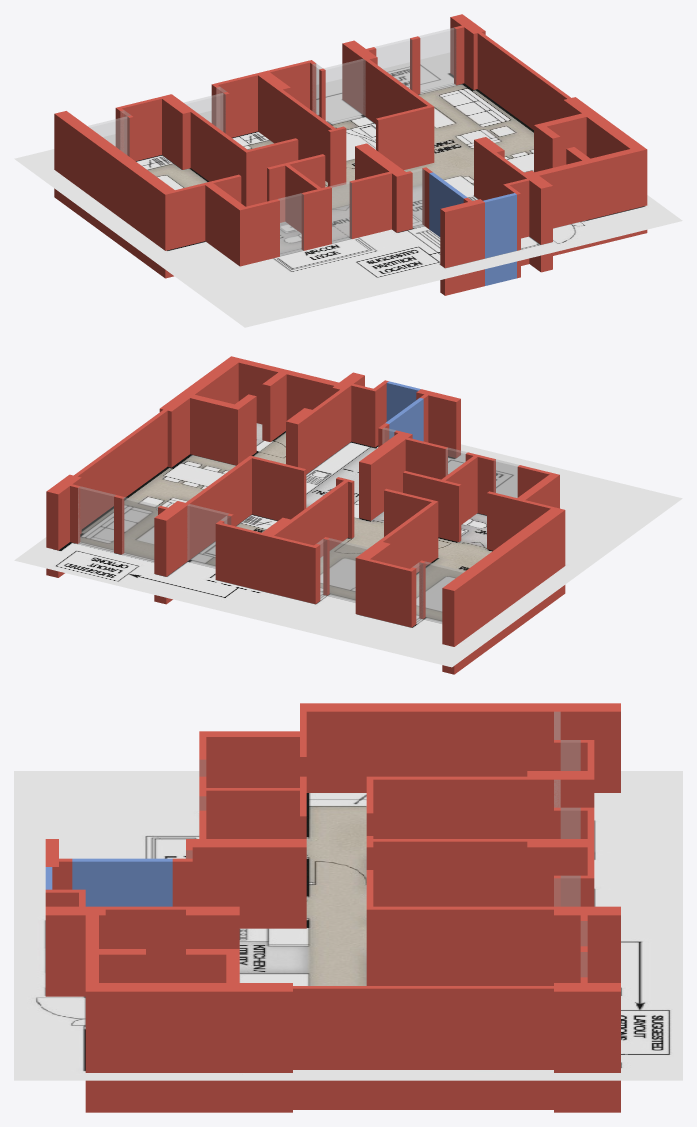
File: buildings.glb
3 renders of one model, top to bottom at view 1: azimuth 30°, elevation 25°; view 2: azimuth 150°, elevation 25°; view 3: azimuth 270°, elevation 25°, orthographic. The views are drawn at different scales.
Parts seen in each view (by area): view 1: walls, ref-4room, windows, others; view 2: walls, ref-4room, windows, others; view 3: walls, ref-4room, others, windows.
Part boxes in pixels (<box>): walls: <box>54,14,647,295</box>; ref-4room: <box>14,52,682,327</box>; windows: <box>88,28,455,256</box>; others: <box>429,172,516,285</box>; walls: <box>46,356,565,674</box>; ref-4room: <box>14,423,682,667</box>; windows: <box>78,428,518,623</box>; others: <box>385,381,423,441</box>; walls: <box>45,703,620,1112</box>; ref-4room: <box>14,771,682,1080</box>; others: <box>45,858,172,906</box>; windows: <box>186,712,587,976</box>.
Bounding box in the file's own units: 1.1 × 0.2 × 1.
4 materials, 1 textured.
